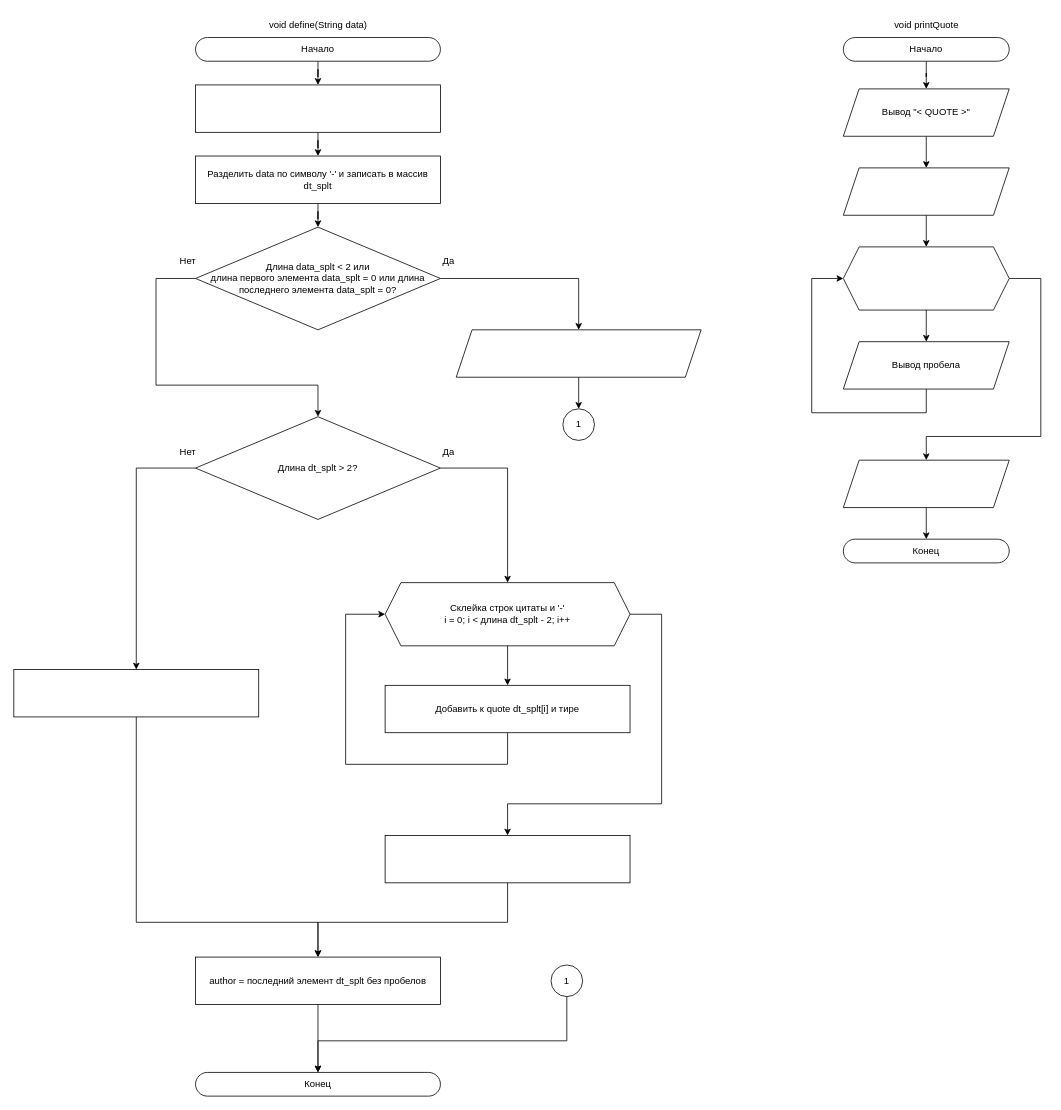
The diagram is 1061 pixels wide and 1110 high, and some of its shapes have lost their labels. The shapes that lost their labels are listed below. From the top down, each one's centre as x and y in pixels, then its label:
point 317,108: Удалить кавычки из data
point 926,191: Форматированный вывод цитаты
point 926,278: Вывод отступа перед автором i = 0; i < длина цитаты; i++
point 578,353: Вывести ошибку - неверный ввод
point 926,483: Вывод автора
point 136,693: Добавить к quote первый элемент dt_splt и обрезать пробелы
point 507,859: Добавить к quote предпоследний элемент dt_splt и обрезать пробелы
